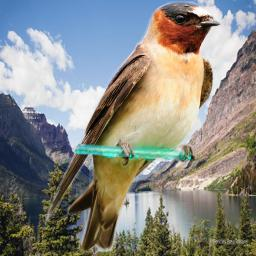Swallow: (45, 1, 222, 253)
